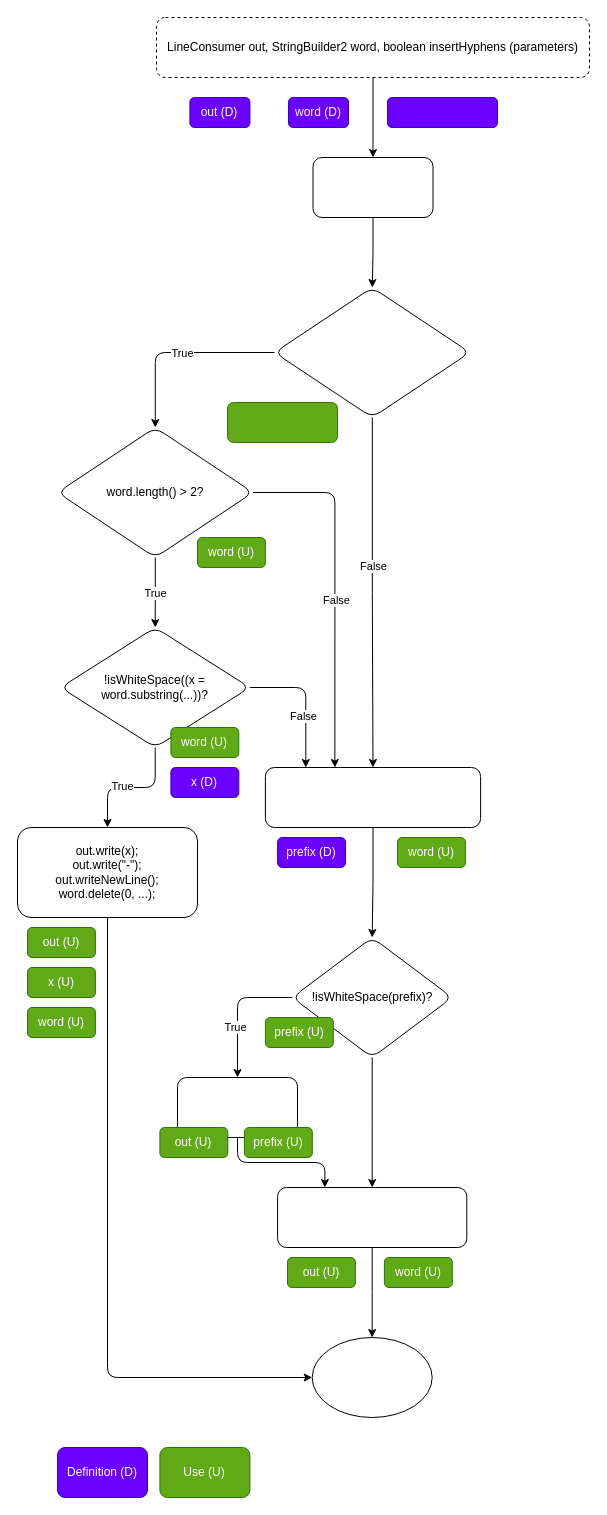
This 607x1515 diagram has some shape labels left out. The centre of each missing label's shape, as x and y in pixels:
"End" goes at pixel 371 1377.
"insertHyphens (U)" goes at pixel 282 422.
"insertHyphens(D)" goes at pixel 442 112.
"insertHyphens?" goes at pixel 372 352.
"out.write(prefix)" goes at pixel 237 1107.
"out.writeNewLine(); word.delete(0, ...);" goes at pixel 372 1217.
"String prefix = word.substring(...)" goes at pixel 372 797.
"String x" goes at pixel 372 187.
